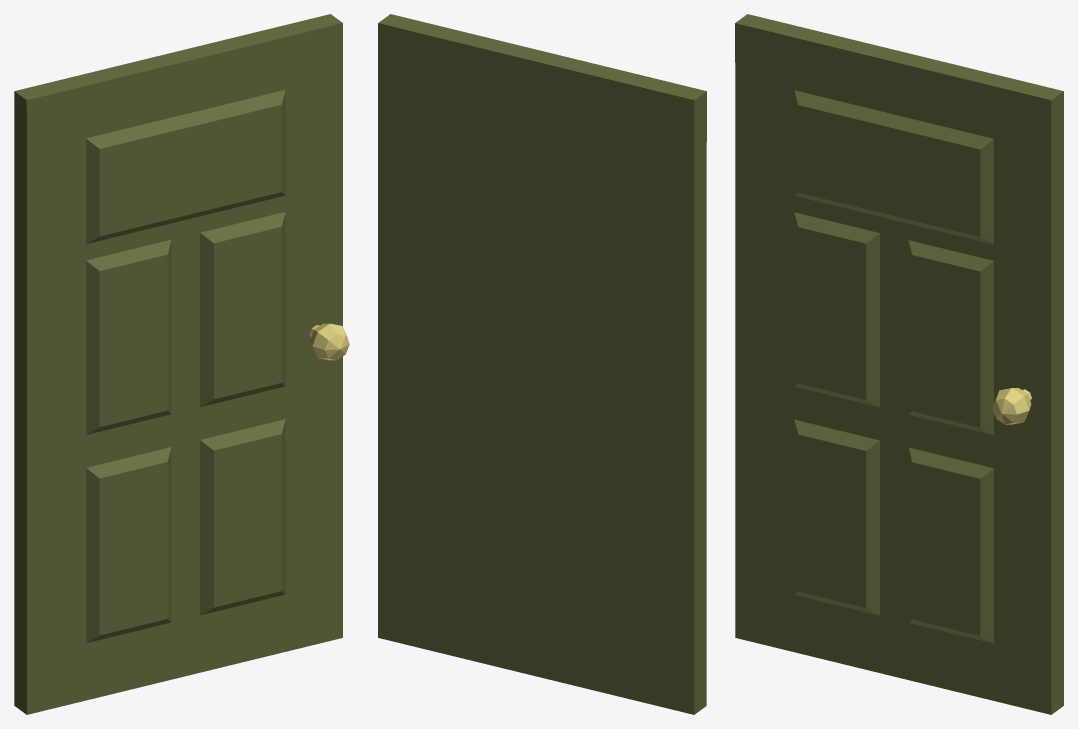
Rendered from Itr_Door_01.FBX.
The picture shows the model from 3 angles, left to right: view 1: azimuth 30°, elevation 25°; view 2: azimuth 150°, elevation 25°; view 3: azimuth 330°, elevation 25°; orthographic projection.
Visible parts, largest first — view 1: Itr_Door_01; view 2: Itr_Door_01; view 3: Itr_Door_01.
Part boxes in pixels (bbox=[...]): Itr_Door_01: bbox=[14, 14, 349, 714]; Itr_Door_01: bbox=[378, 14, 706, 714]; Itr_Door_01: bbox=[735, 14, 1063, 714].
Size of the model in its own units: 43.59 by 80.97 by 8.56.
